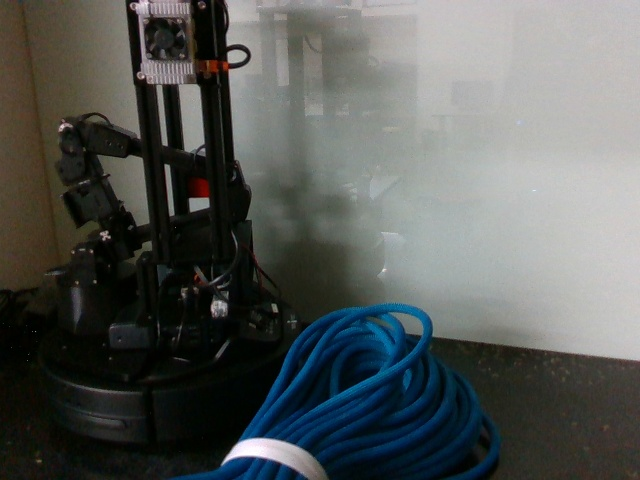rope: (150, 302, 508, 480)
